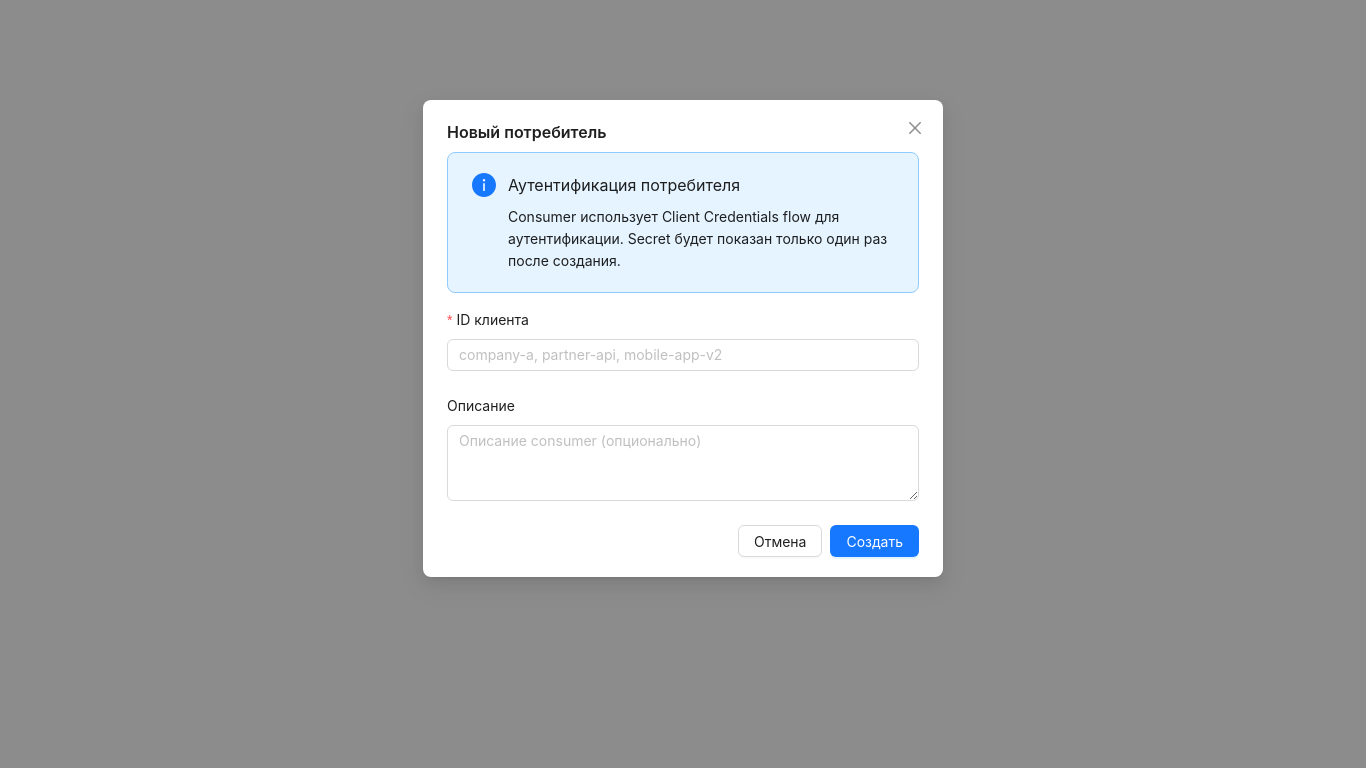
Scenario: CreateConsumerModal › валидирует Client ID — pattern (lowercase, numbers, hyphens) (AC2)
Вводим невалидный Client ID (заглавные буквы)
Type "Consumer-A" into the field labelled "ID клиента" at (683, 355), box [447,339,919,371]
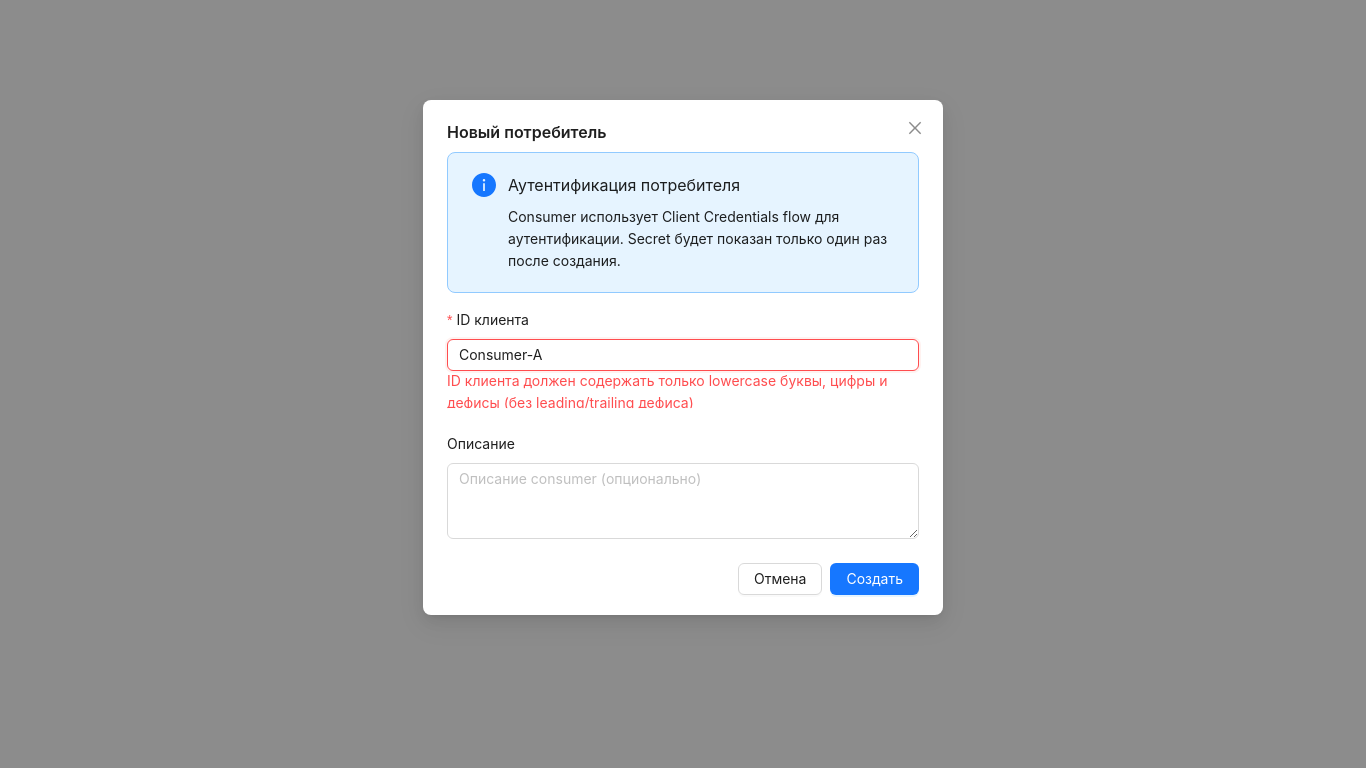
Click the button "Создать" at (875, 584), box [830,568,919,600]
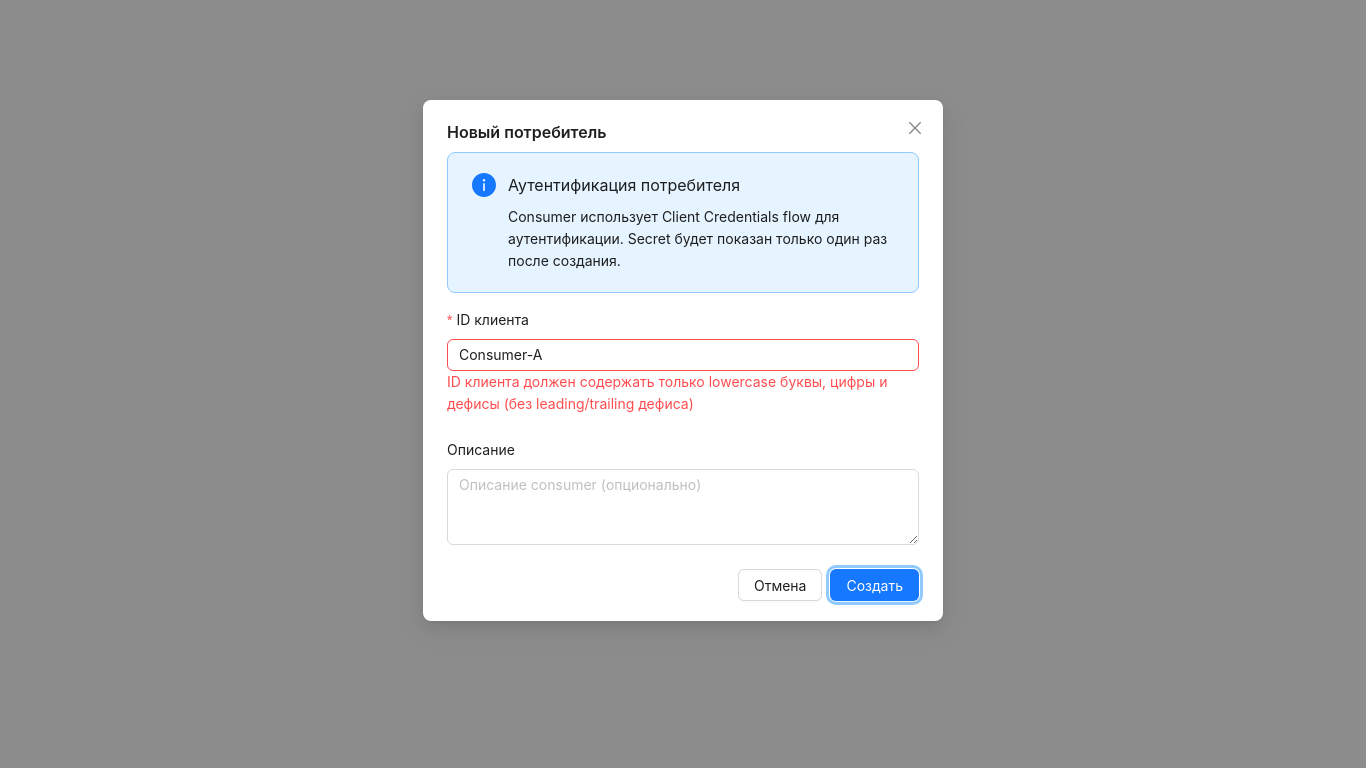
Expected: the text "ID клиента должен содержать только lowercase буквы" is shown, [447,373,887,412]
